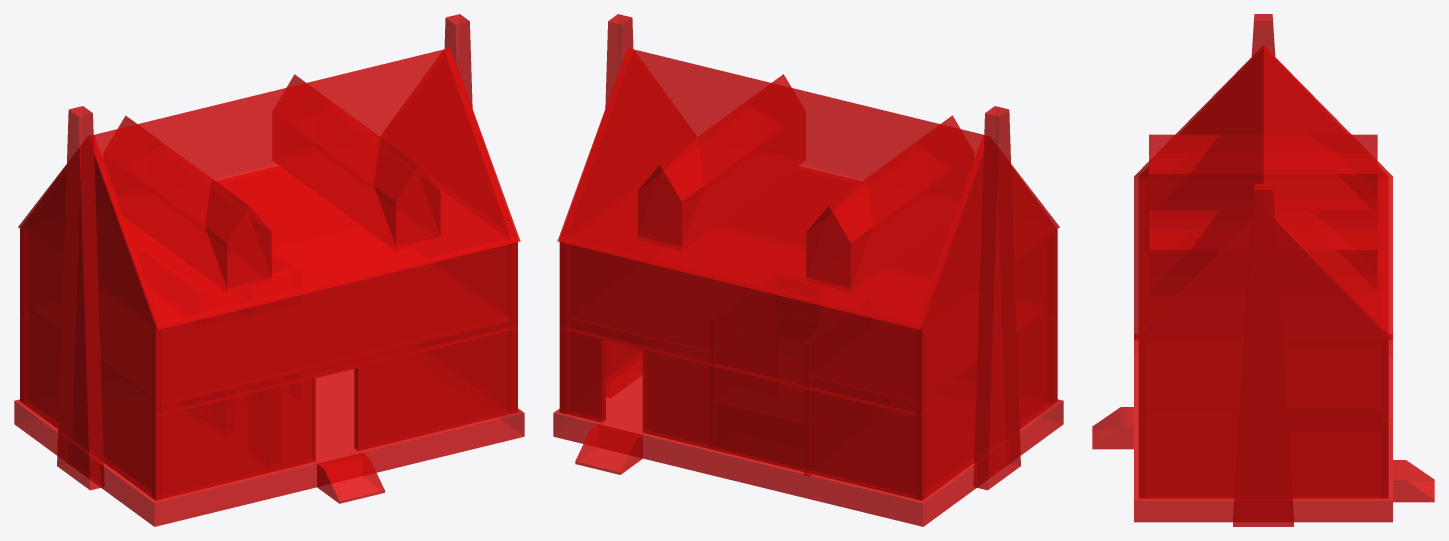
The model's file is SM_Bld_TownHouse_01_Collision.fbx.
3 views of the same model, side by side, from view 1: azimuth 30°, elevation 25°; view 2: azimuth 150°, elevation 25°; view 3: azimuth 270°, elevation 25° (orthographic). The views are drawn at different scales.
Visible parts, largest first — view 1: SM_Bld_TownHouse_01_Collision; view 2: SM_Bld_TownHouse_01_Collision; view 3: SM_Bld_TownHouse_01_Collision.
Part boxes in pixels (box(x1,y1,x2,y2)): SM_Bld_TownHouse_01_Collision: box(14, 14, 524, 526); SM_Bld_TownHouse_01_Collision: box(553, 14, 1063, 526); SM_Bld_TownHouse_01_Collision: box(1092, 14, 1434, 526).
Size of the model in its own units: 1262 by 1125 by 1035.
